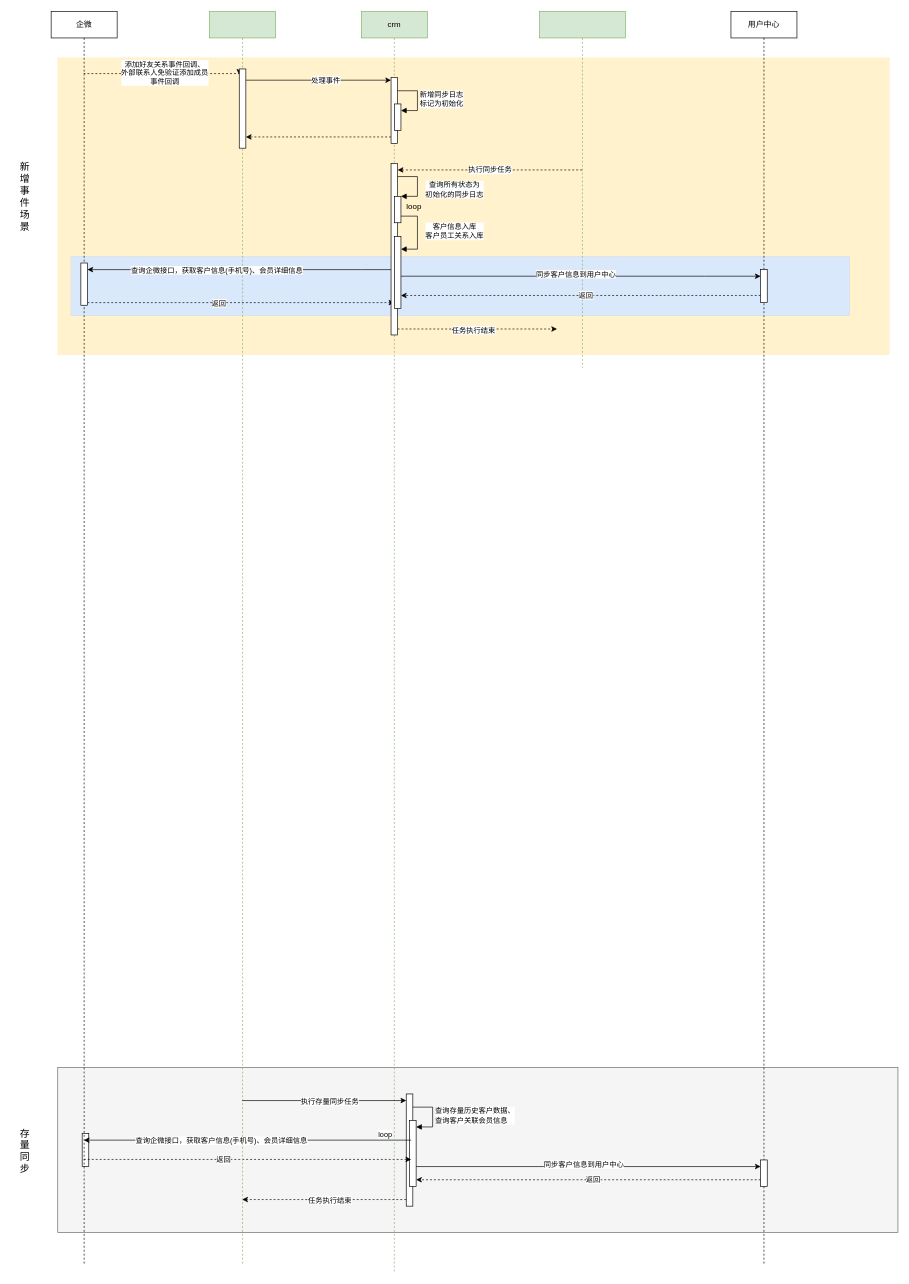
Image size: 909x1284. Some labels were removed from this diagram. The box of each missing label's shape, as (x1, y1, x2, y2) in pixels:
(crm)任务调度器: (539, 11, 625, 368)
wshop: (209, 11, 276, 1266)
